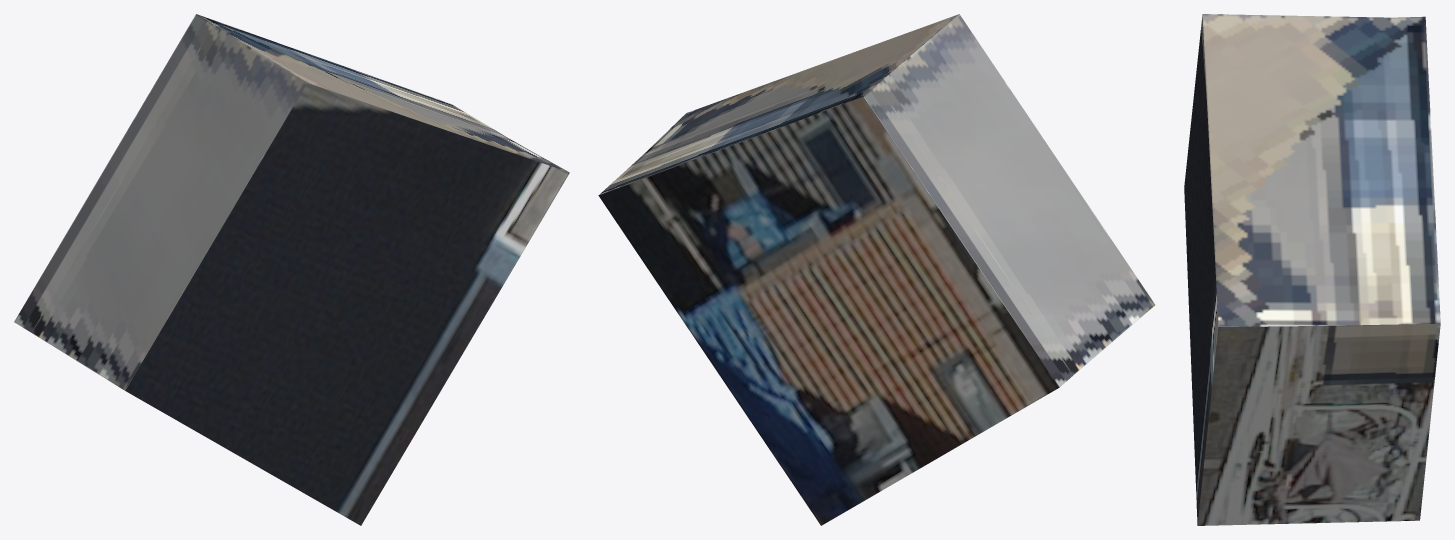
3 renders of one model, left to right at view 1: azimuth 30°, elevation 25°; view 2: azimuth 150°, elevation 25°; view 3: azimuth 270°, elevation 25°, orthographic. The views are drawn at different scales.
Visible parts, largest first — view 1: BAG_0599100000690502 (×3); view 2: BAG_0599100000690502 (×3); view 3: BAG_0599100000690502 (×2).
Boxes of the visible parts, x1,y1,x2,y2 form: BAG_0599100000690502 (×3): (14,14,569,525); BAG_0599100000690502 (×3): (598,14,1155,525); BAG_0599100000690502 (×2): (1184,14,1440,525).
Size of the model in its own units: 8.96 by 8.33 by 3.98.
1 material, 1 textured.
